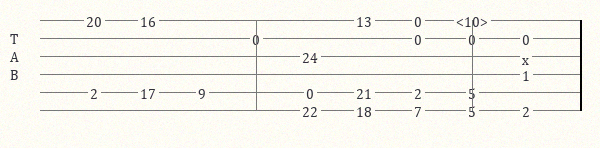0: (252, 31, 264, 45), (306, 85, 318, 99), (414, 13, 426, 27), (414, 31, 426, 45), (468, 31, 480, 45), (522, 31, 534, 45)
1: (522, 67, 534, 81)
13: (356, 13, 376, 27)
16: (140, 13, 160, 27)
17: (140, 85, 160, 99)
18: (356, 103, 376, 117)
2: (90, 85, 102, 99), (414, 85, 426, 99), (522, 103, 534, 117)
20: (86, 13, 106, 27)
21: (356, 85, 376, 99)
22: (302, 103, 322, 117)
24: (302, 49, 322, 63)
5: (468, 103, 480, 118), (468, 85, 480, 100)
7: (414, 103, 426, 117)
9: (198, 85, 210, 99)
harmonic: (456, 13, 492, 27)
x: (522, 51, 533, 62)
